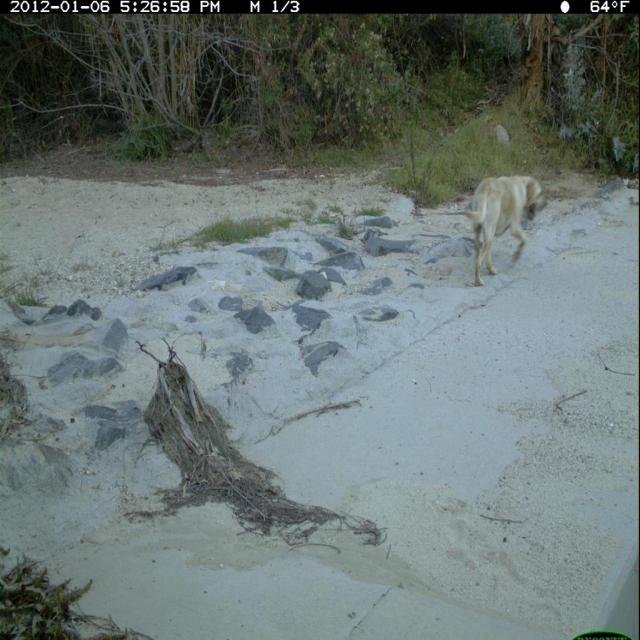dog: (452, 163, 555, 296)
